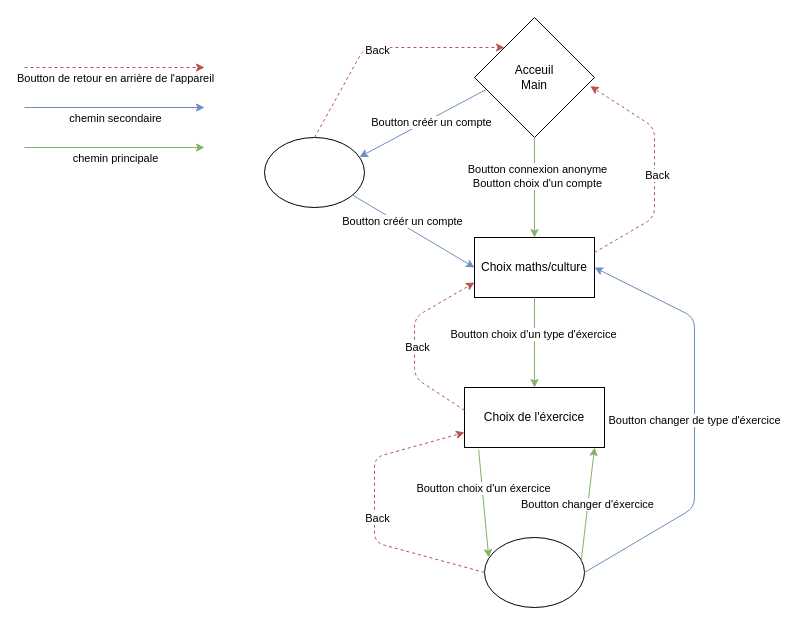
This 798x625 diagram has some shape labels left out. The centre of each missing label's shape, as x and y in pixels:
"Exercice" goes at (x=534, y=572).
"Inscription" goes at (x=314, y=172).
